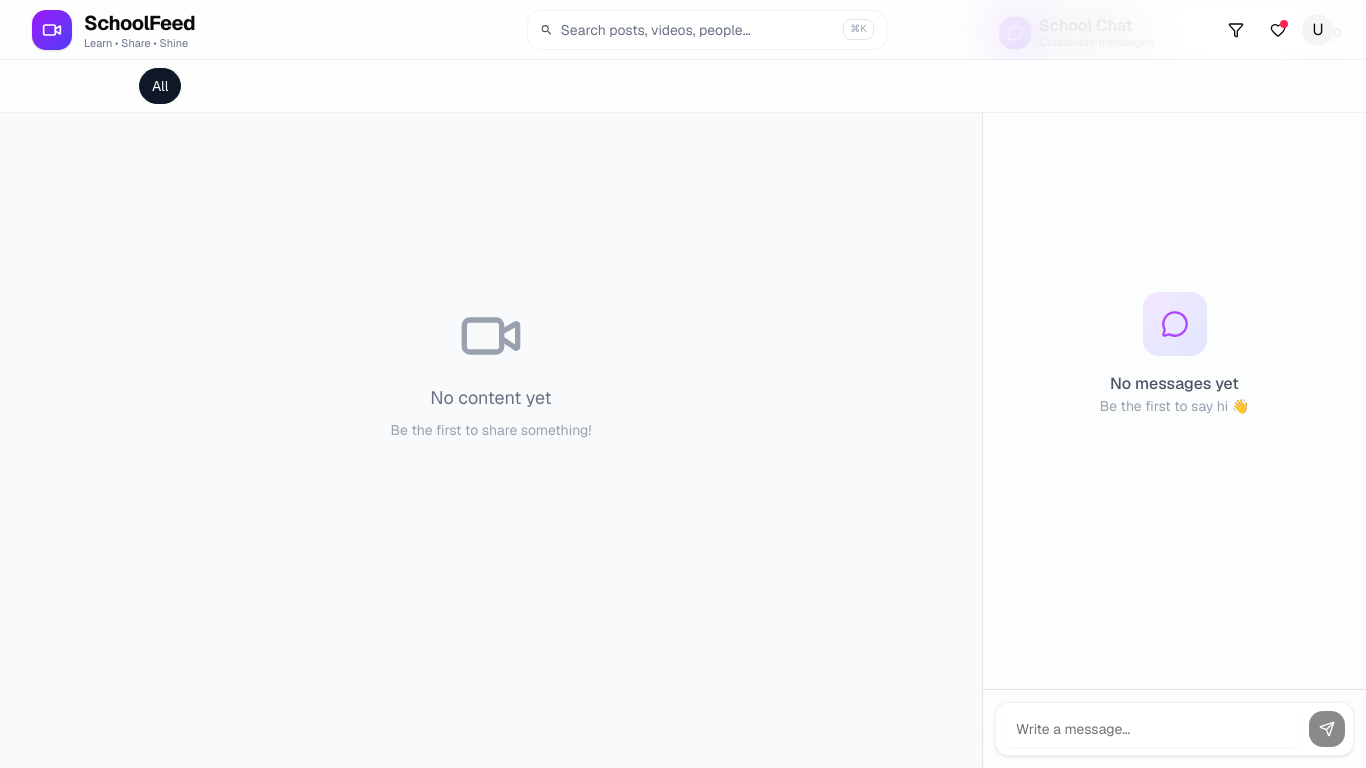
Test: FeedClient › renders user menu and logout option
(page scrolled)
Click the button with test id "btn-user-menu" at (1318, 30), box [1302, 14, 1334, 46]
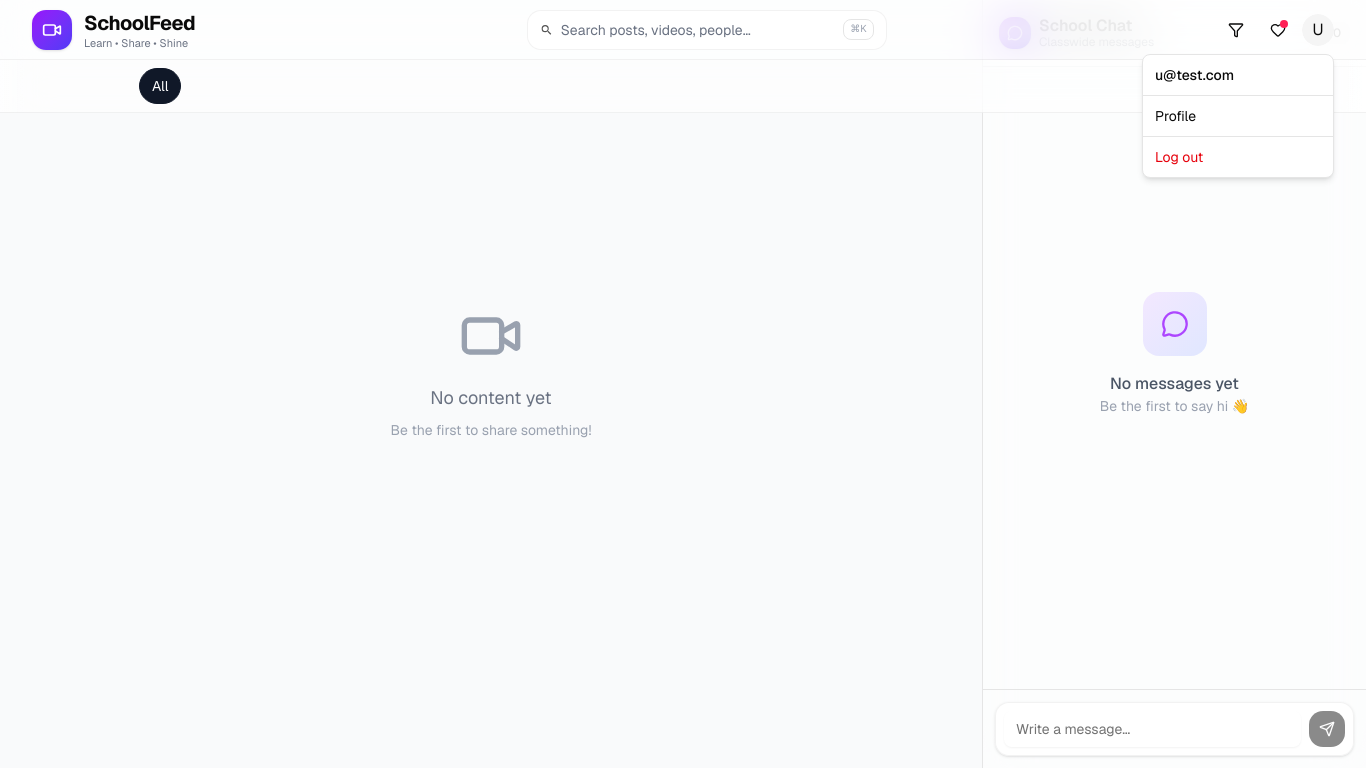
Expected: the menu item with test id "menu-logout" is shown, [1155, 148, 1203, 166]
Expected: the menu item with test id "menu-profile" is shown, [1155, 107, 1196, 125]
